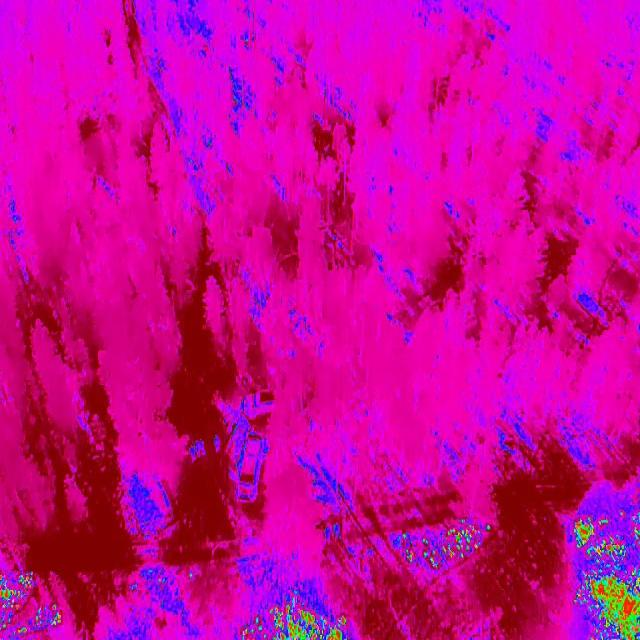fire: (572, 517, 640, 640), (390, 516, 496, 576), (0, 569, 64, 640), (237, 601, 353, 640)
